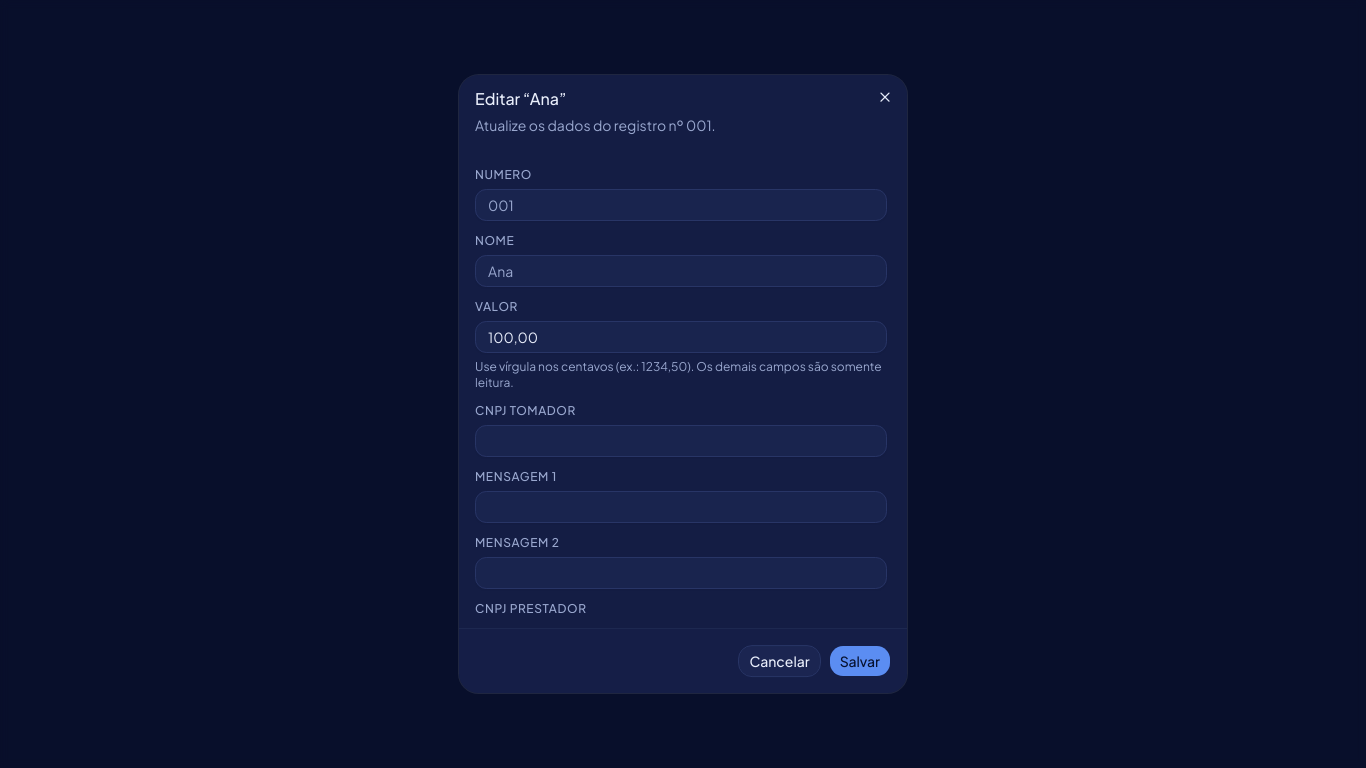
Test: EditDialog — correção de valor › inalterado: informa que nada mudou, sem anunciar correção
Replace the text in the field labelled "Valor" with "150,00" at (681, 337), box [475, 321, 887, 353]
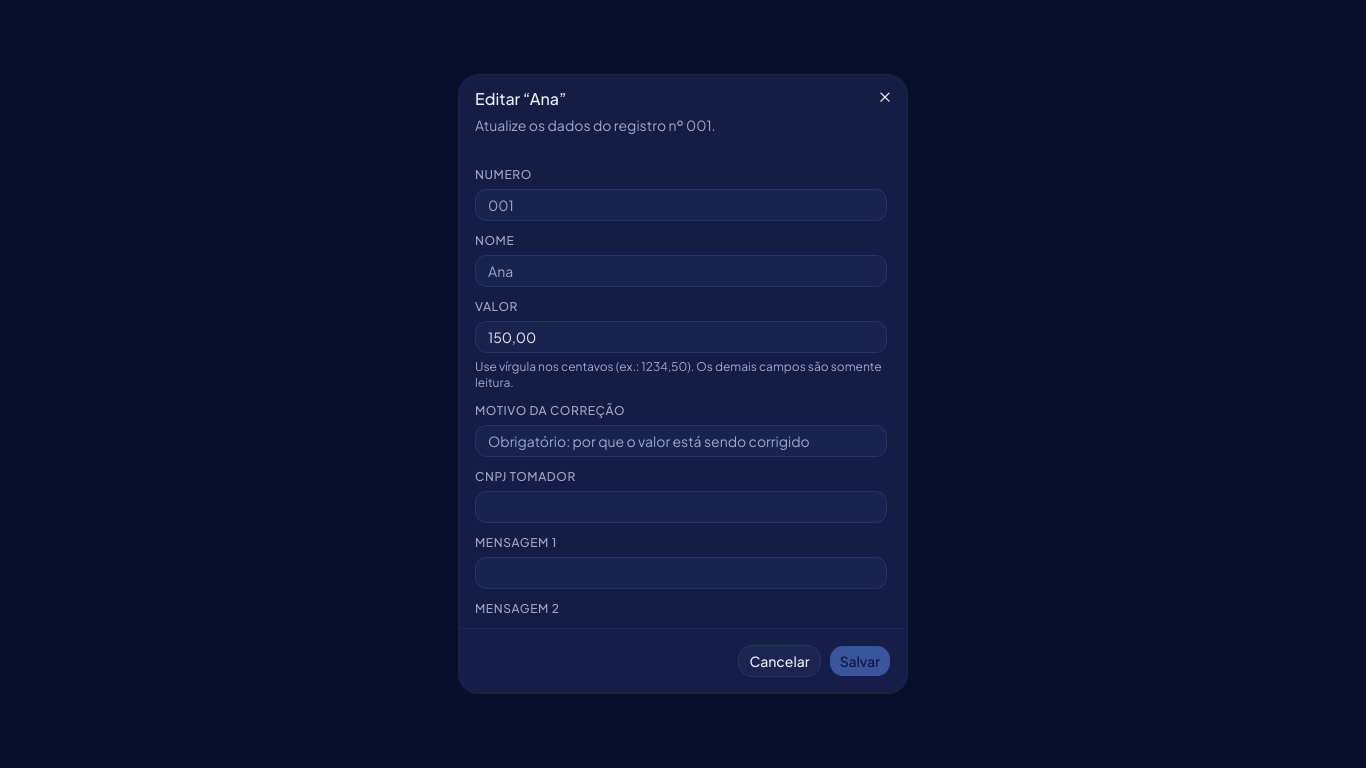
Type "x" into the field labelled "Motivo da correção" at (681, 441), box [475, 425, 887, 457]
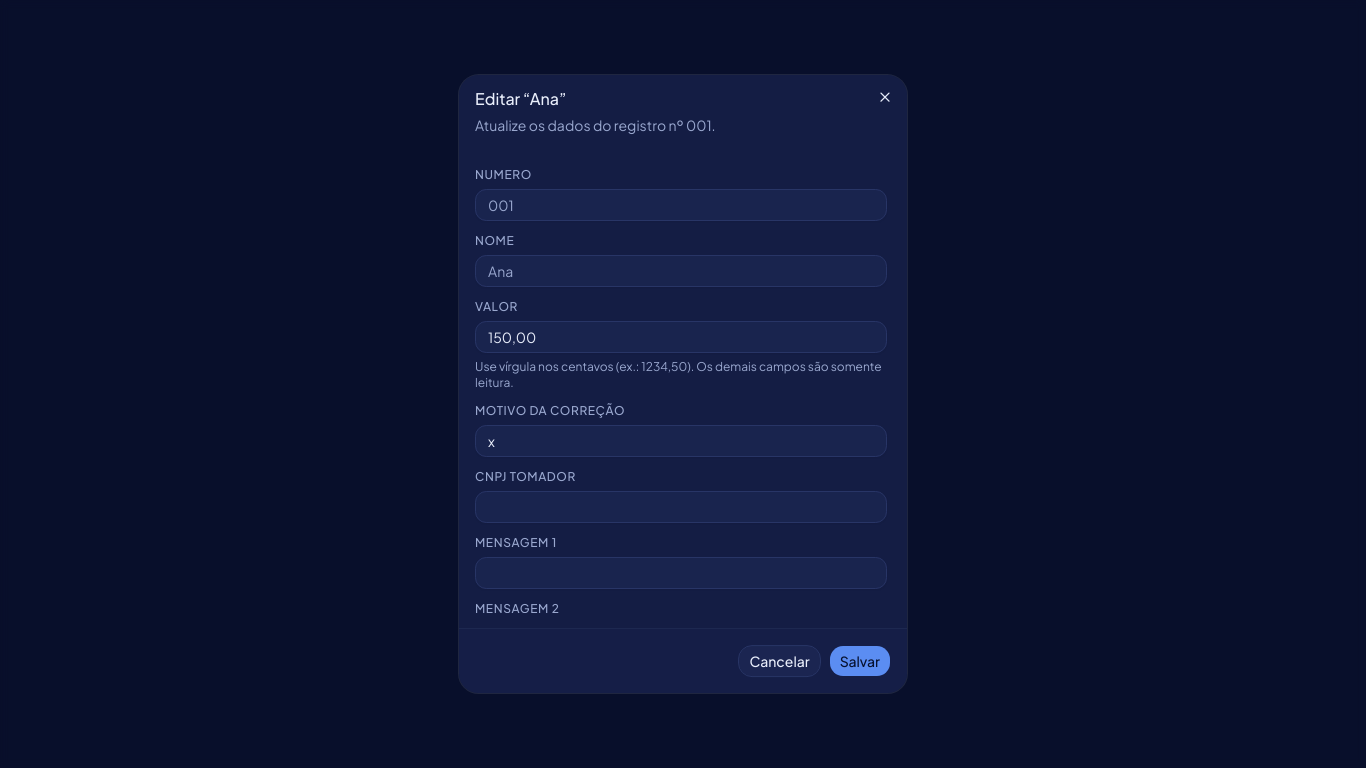
Click the button "Salvar" at (860, 661), box [829, 645, 891, 677]
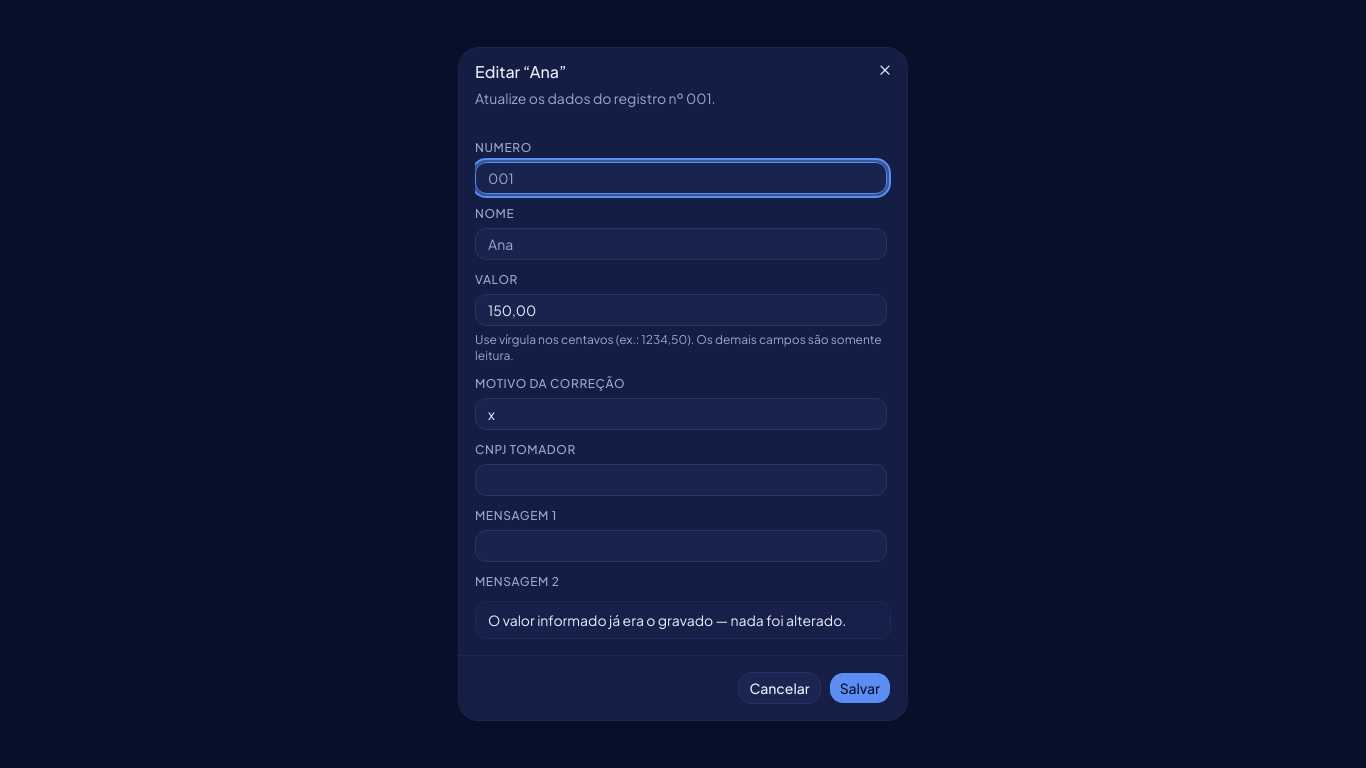
expect the message shows "nada foi alterado": met, box [488, 611, 846, 629]
